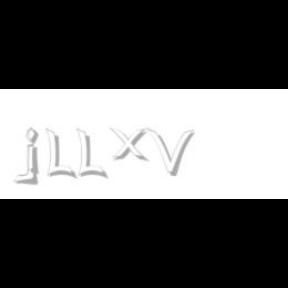L: (46, 128, 74, 180), (77, 128, 105, 180)
V: (147, 128, 195, 176)
i: (26, 128, 42, 176)
j: (24, 128, 53, 186)
x: (110, 128, 152, 162)
